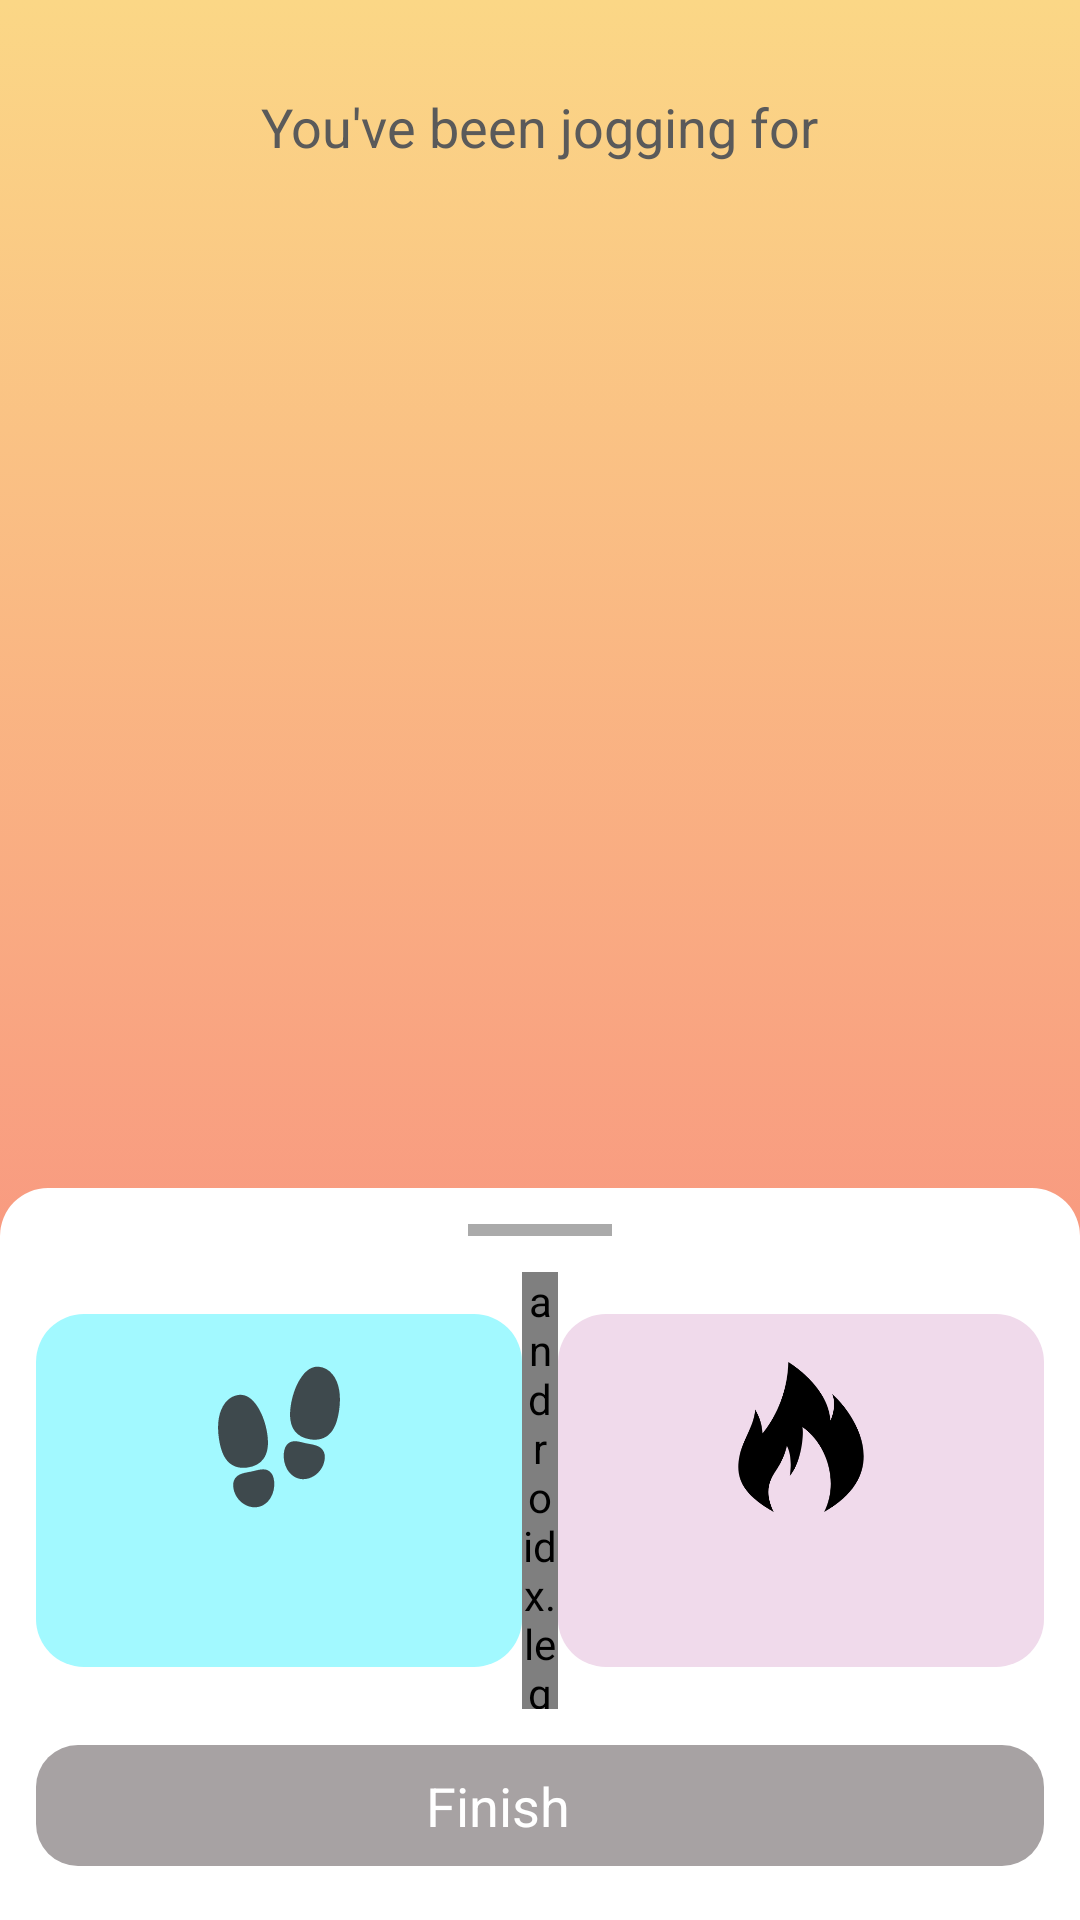

Screen size 1080 x 1920. Icon name, then its box in pixels as [x1, y1, x2, y2]:
fire: [738, 1362, 864, 1512]
footsteps: [218, 1366, 340, 1508]
